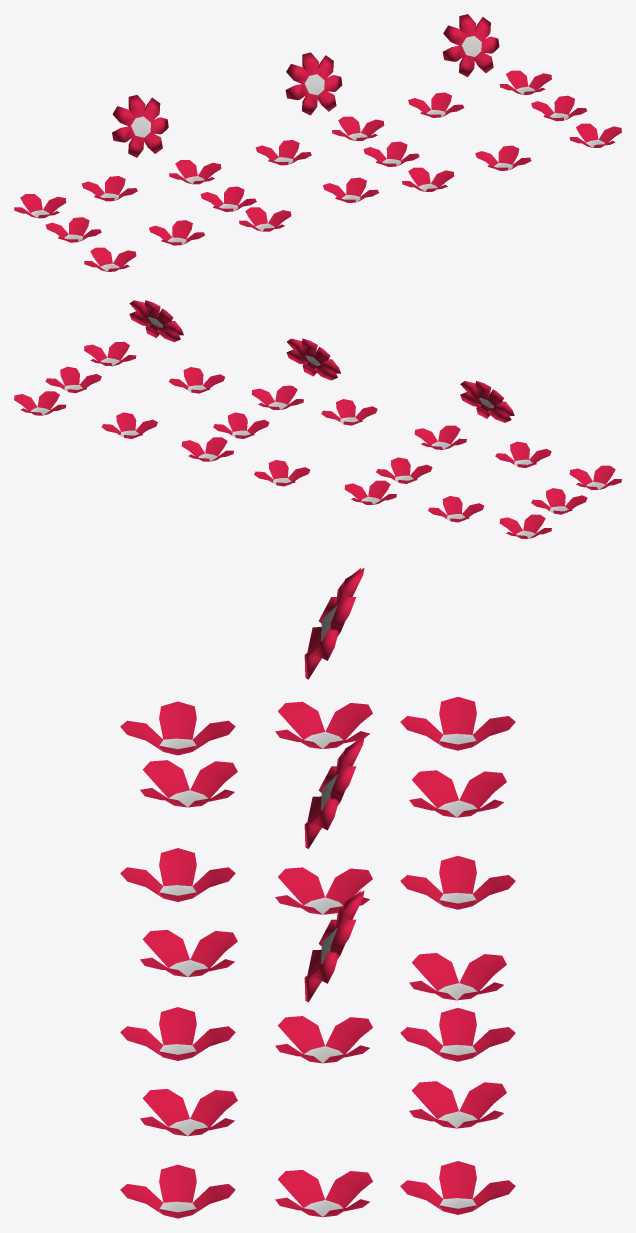
3 renders of one model, top to bottom at view 1: azimuth 30°, elevation 25°; view 2: azimuth 150°, elevation 25°; view 3: azimuth 270°, elevation 25°, orthographic. The views are drawn at different scales.
Visible parts, largest first — view 1: color.007; view 2: color.007; view 3: color.007.
Part boxes in pixels (x1=…): color.007: x1=14, y1=14, x2=621, y2=271; color.007: x1=14, y1=300, x2=621, y2=538; color.007: x1=120, y1=568, x2=515, y2=1218.
Bounding box in the file's own units: 0.5 × 0.1124 × 0.1596.
